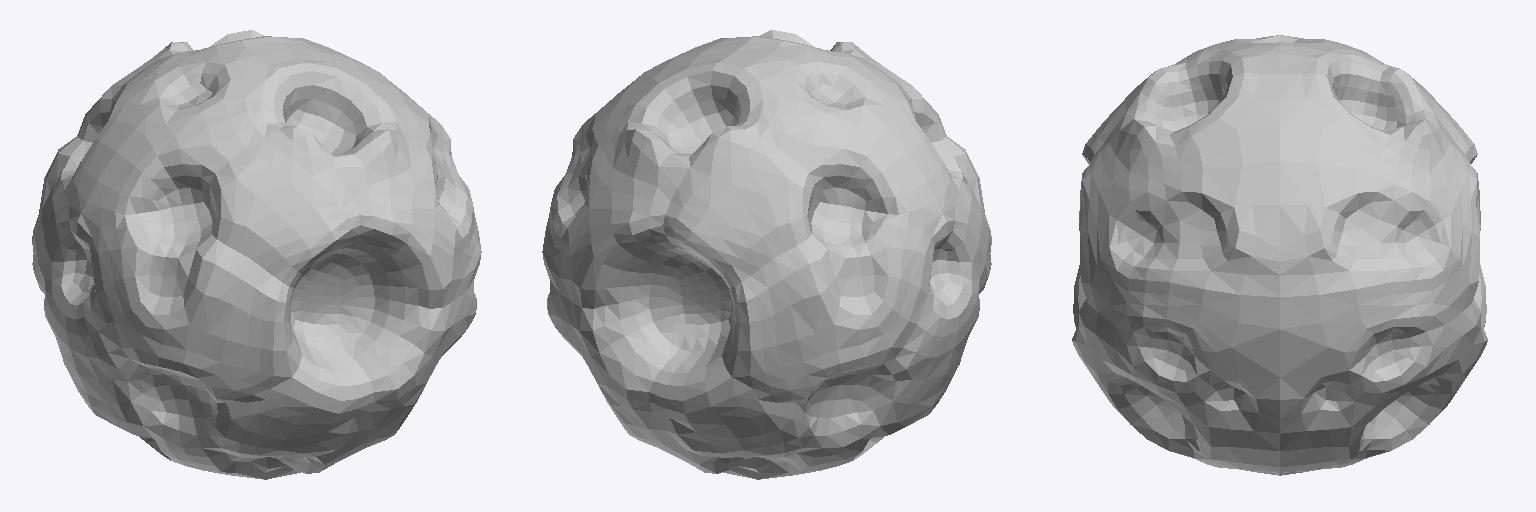
File: Moon_GEO.obj
3 renders of one model, left to right at view 1: azimuth 30°, elevation 25°; view 2: azimuth 150°, elevation 25°; view 3: azimuth 270°, elevation 25°, orthographic.
Parts seen in each view (by area): view 1: LOW_Moon; view 2: LOW_Moon; view 3: LOW_Moon.
Boxes of the visible parts, <box> form: LOW_Moon: <box>32,30,481,479</box>; LOW_Moon: <box>542,30,991,479</box>; LOW_Moon: <box>1072,35,1487,475</box>.
Size of the model in its own units: 186 by 187 by 176.